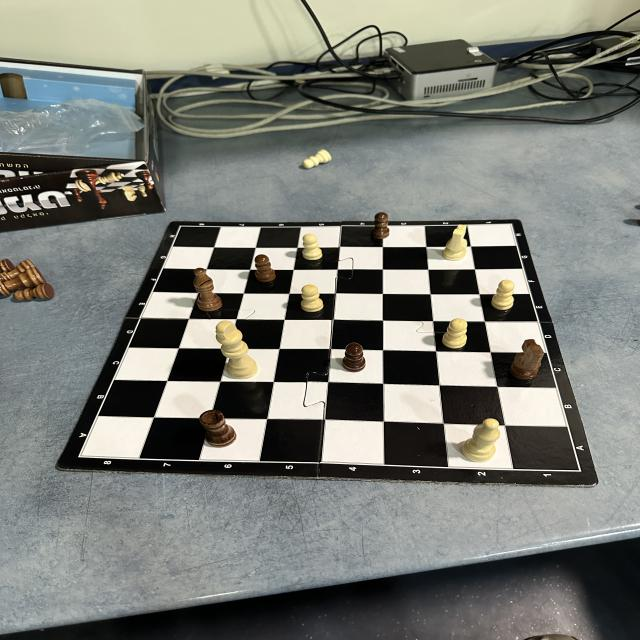Black-Bishop: (193, 268, 223, 311)
Black-King: (0, 268, 48, 294)
Black-Knight: (510, 339, 546, 380)
Black-Pawn: (14, 284, 55, 302), (343, 342, 367, 372), (255, 255, 276, 282), (373, 212, 390, 238)
Black-Rook: (199, 410, 237, 448)
White-Bishop: (464, 418, 501, 462)
White-King: (215, 320, 257, 378)
White-Knight: (442, 224, 468, 261)
White-Pawn: (443, 318, 467, 348), (492, 279, 514, 310), (300, 285, 325, 312), (303, 149, 333, 169), (302, 234, 322, 260)
